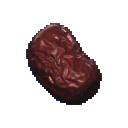gd: (13, 21, 111, 115)
